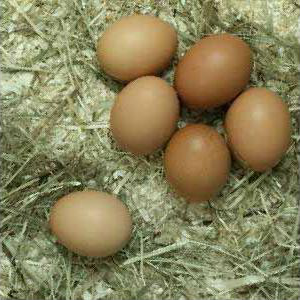egg: (173, 34, 253, 112), (225, 87, 292, 173), (49, 190, 132, 259), (110, 75, 180, 155), (97, 14, 177, 81), (163, 123, 231, 201)
